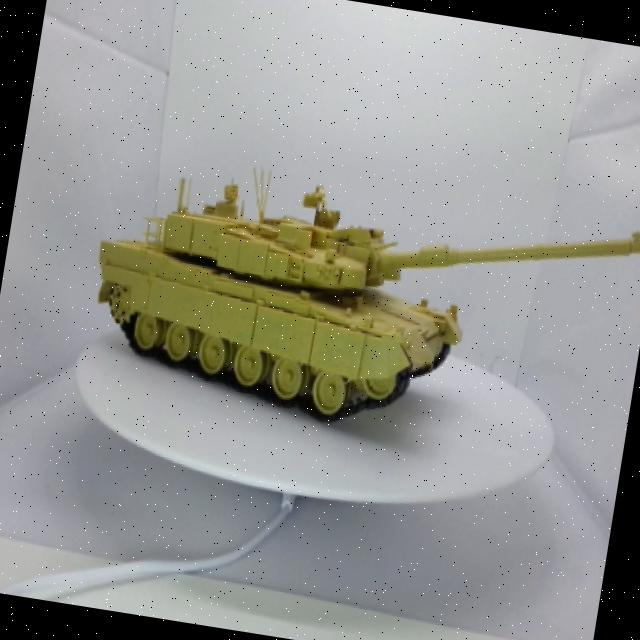korea tank: (43, 129, 640, 478)
